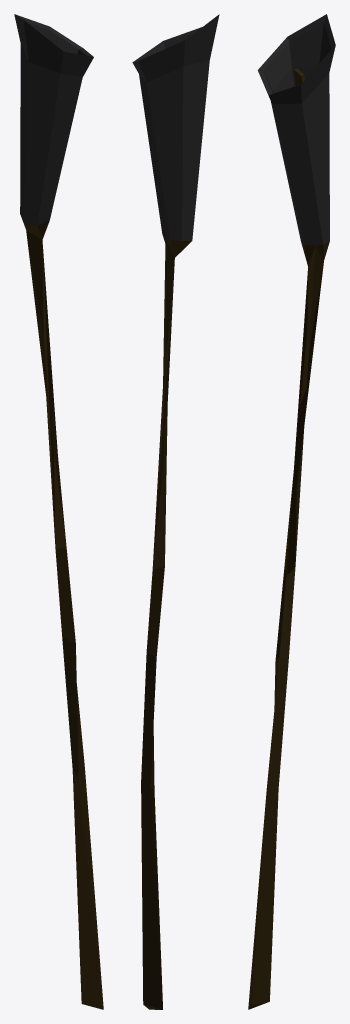
File: flowercalla.fbx
3 renders of one model, left to right at view 1: azimuth 90°, elevation 25°; view 2: azimuth 210°, elevation 25°; view 3: azimuth 270°, elevation 25°, orthographic. The views are drawn at different scales.
Parts seen in each view (by area): view 1: Cylinder; view 2: Cylinder; view 3: Cylinder.
Part boxes in pixels (box(x1,y1,x2,y2)): Cylinder: box(14, 14, 103, 1009); Cylinder: box(132, 14, 219, 1009); Cylinder: box(248, 14, 335, 1009).
Size of the model in its own units: 0.0554 by 0.7005 by 0.0566.
